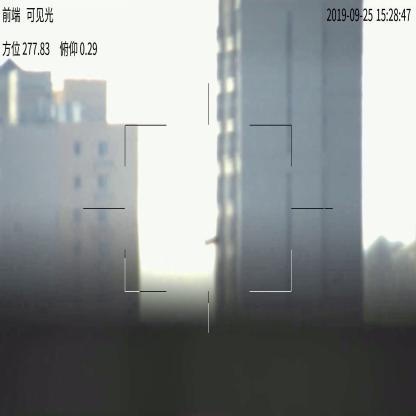uav: (204, 236, 220, 247)
